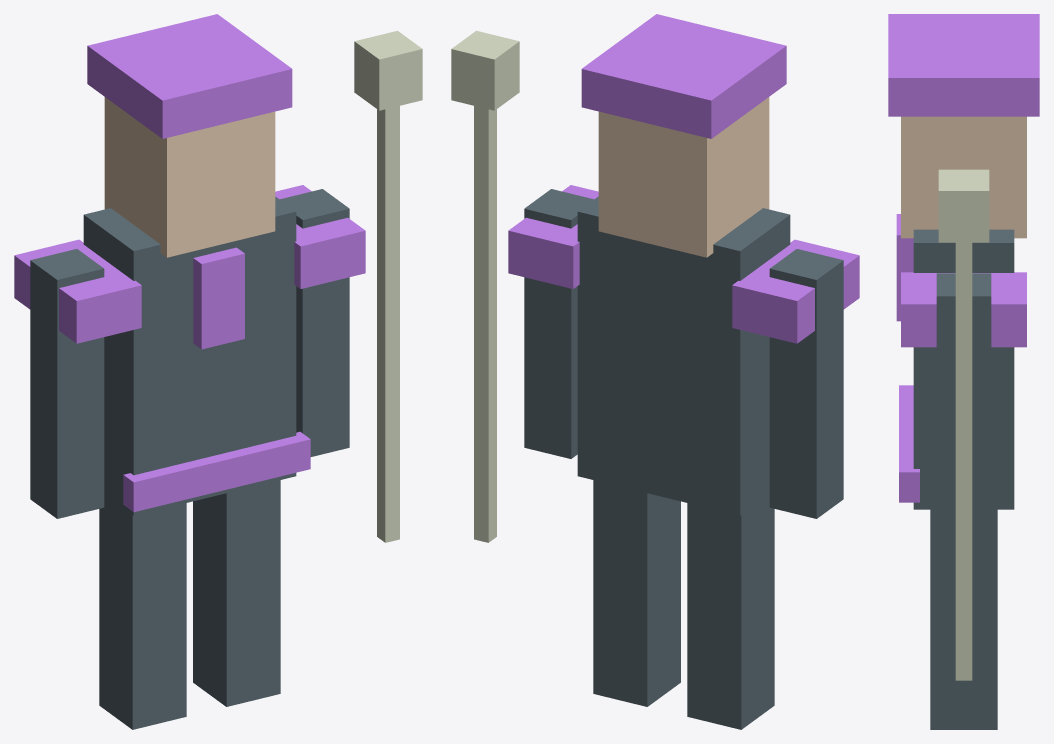
The model's file is 18_soren_gantryn_watcher_of_observation.glb.
3 renders of one model, left to right at view 1: azimuth 30°, elevation 25°; view 2: azimuth 150°, elevation 25°; view 3: azimuth 270°, elevation 25°, orthographic.
Parts seen in each view (by area): view 1: Soren Gantryn, Watcher of Observation; view 2: Soren Gantryn, Watcher of Observation; view 3: Soren Gantryn, Watcher of Observation.
Boxes of the visible parts, <box> form: Soren Gantryn, Watcher of Observation: <box>14,14,422,729</box>; Soren Gantryn, Watcher of Observation: <box>451,14,859,729</box>; Soren Gantryn, Watcher of Observation: <box>888,14,1039,729</box>.
Bounding box in the file's own units: 1.01 × 1.7 × 0.36.
